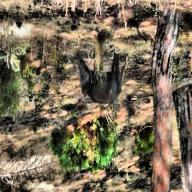boar: (72, 40, 133, 113)
